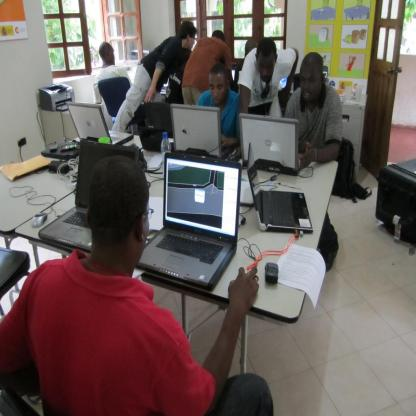board: (136, 144, 242, 293), (39, 141, 138, 252), (248, 144, 314, 232), (239, 113, 298, 174), (170, 105, 232, 158)
